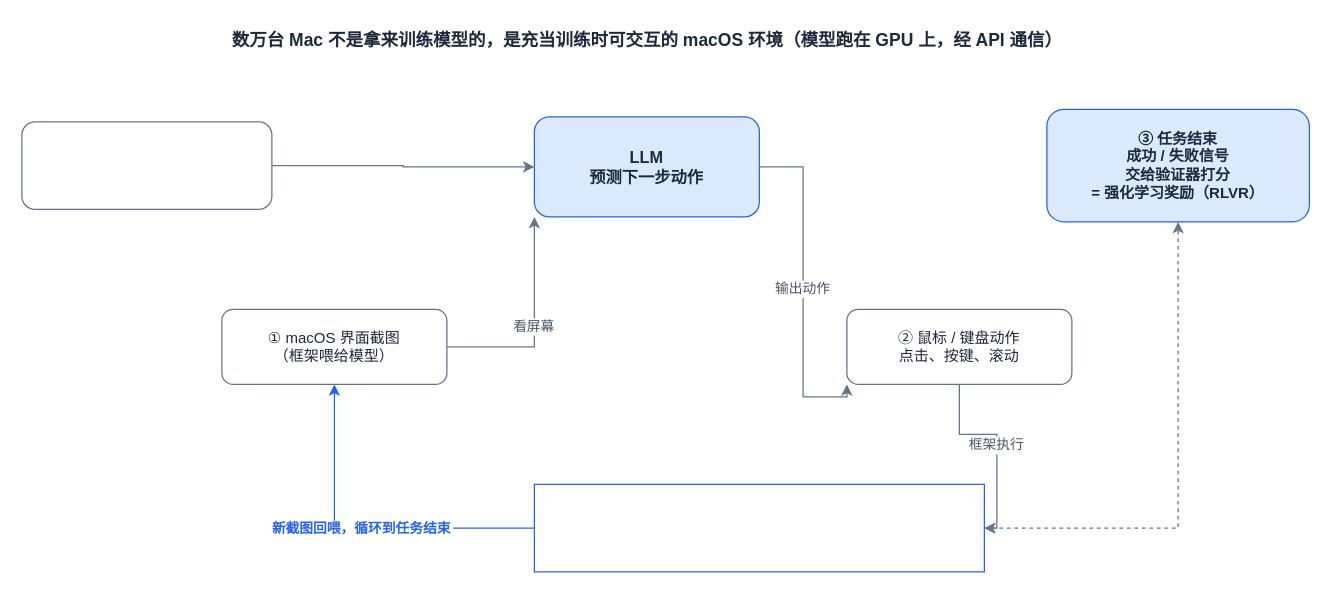
The diagram is 1331 pixels wide and 594 high, and some of its shapes have lost their labels. The shapes that lost their labels are listed below. From the top down, each one's centre as x and y in pixels, then its label:
At pixel 146 165: "任务提示 「打开 xyz 应用，完成 abc」".
At pixel 758 527: "Mac 集群：macOS 环境 框架代为执行动作 界面状态随之变化".
